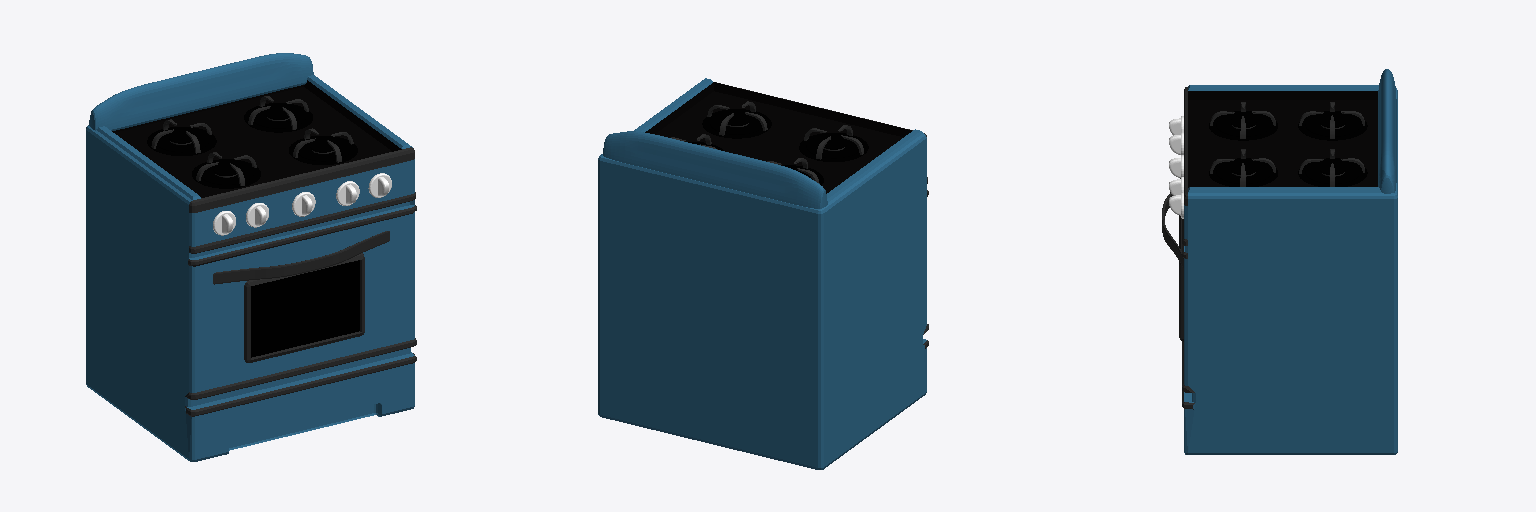
File: Stove_1301.obj
3 renders of one model, left to right at view 1: azimuth 30°, elevation 25°; view 2: azimuth 150°, elevation 25°; view 3: azimuth 270°, elevation 25°, orthographic.
Parts seen in each view (by area): view 1: ChamferBox003; view 2: ChamferBox003; view 3: ChamferBox003.
Part boxes in pixels (x1,y1,x2,y2): ChamferBox003: (86, 53, 416, 461); ChamferBox003: (598, 78, 928, 469); ChamferBox003: (1162, 69, 1397, 454).
Size of the model in its own units: 26.37 by 32.25 by 23.62.